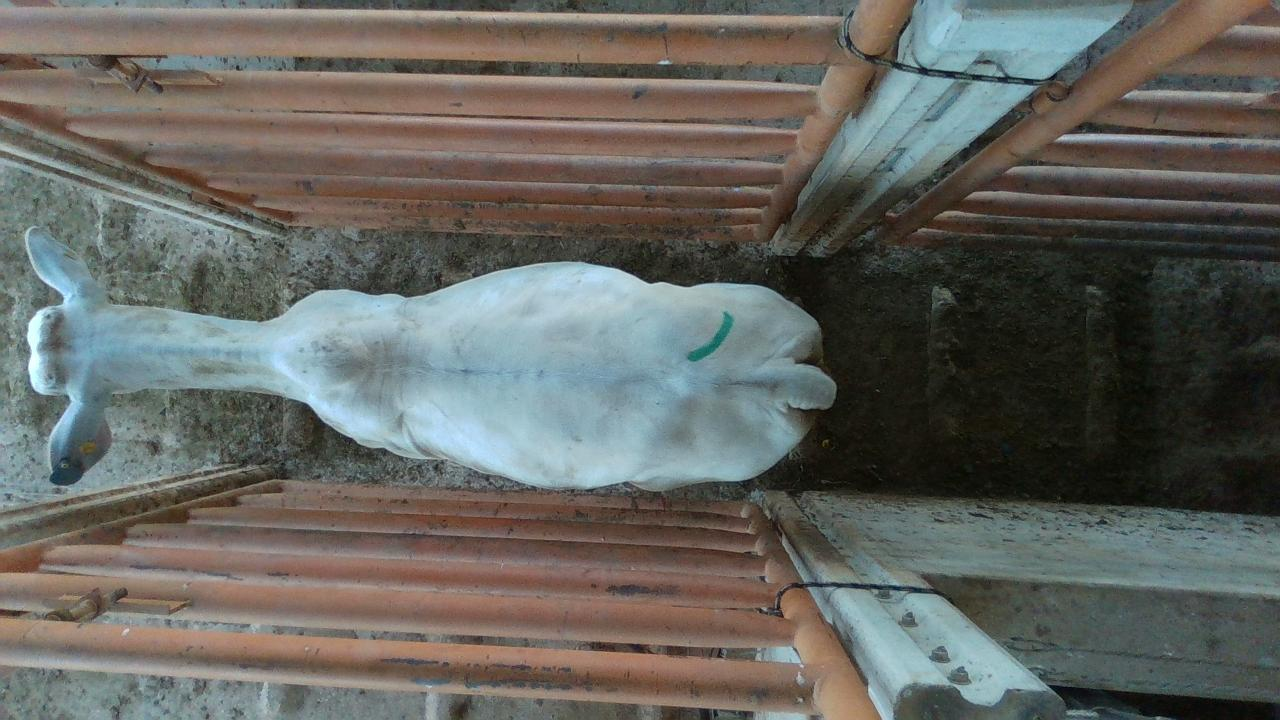cattle: (22, 223, 838, 493)
